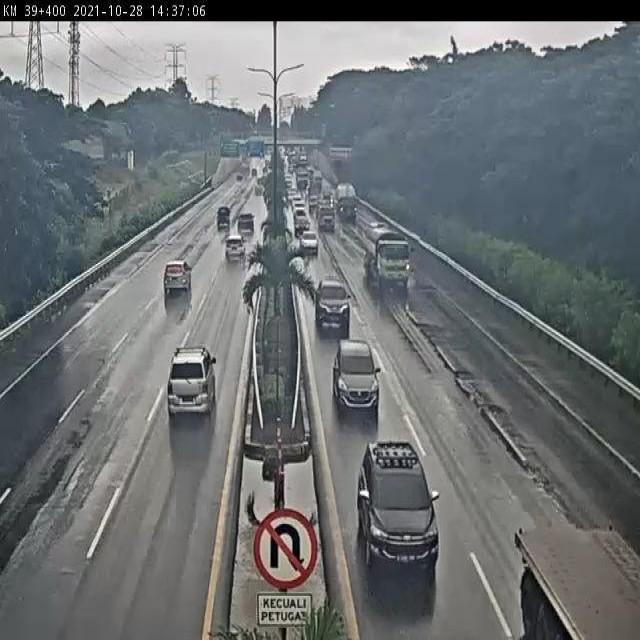car: (355, 434, 445, 578), (328, 332, 385, 416), (164, 345, 218, 423), (312, 276, 354, 336), (158, 255, 197, 304), (222, 226, 250, 262), (297, 228, 320, 260), (236, 208, 257, 232), (216, 204, 233, 229)
small truck: (359, 217, 415, 295)
